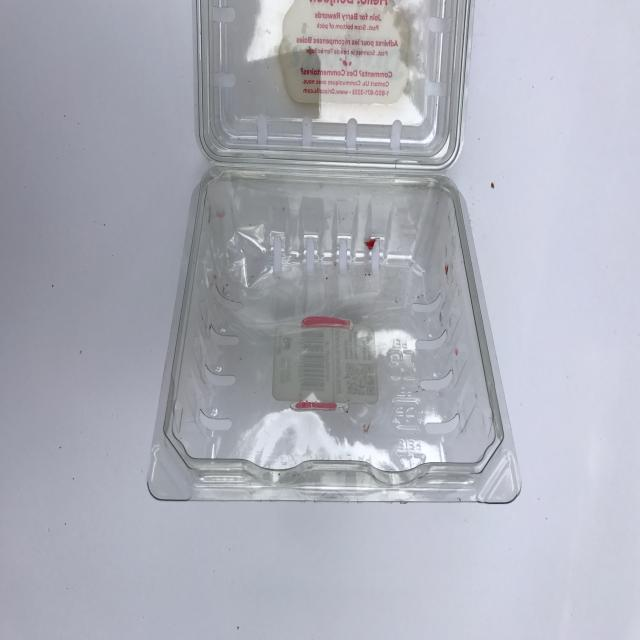plastic: (95, 0, 526, 534)
